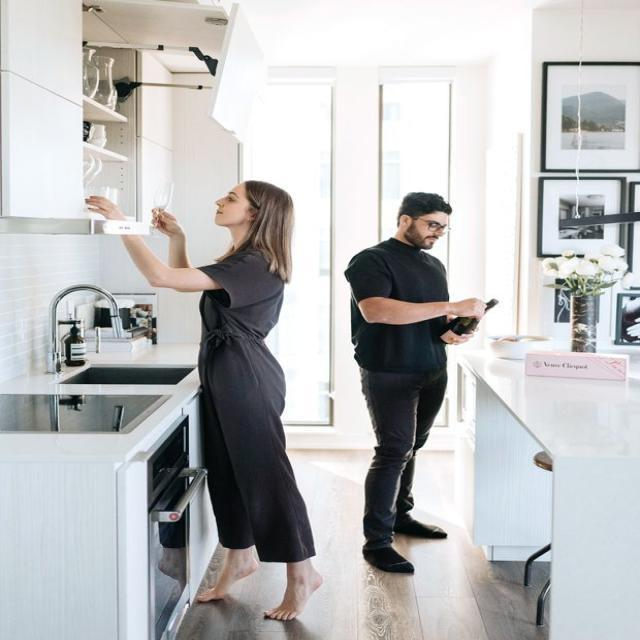obstacle: (454, 344, 638, 638)
person: (84, 179, 324, 621), (342, 191, 488, 574)
